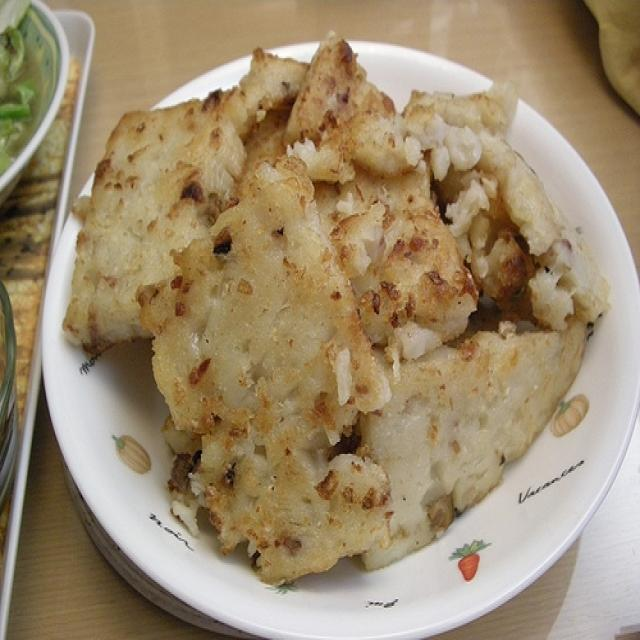蛋糕甜品: (82, 39, 557, 536)
